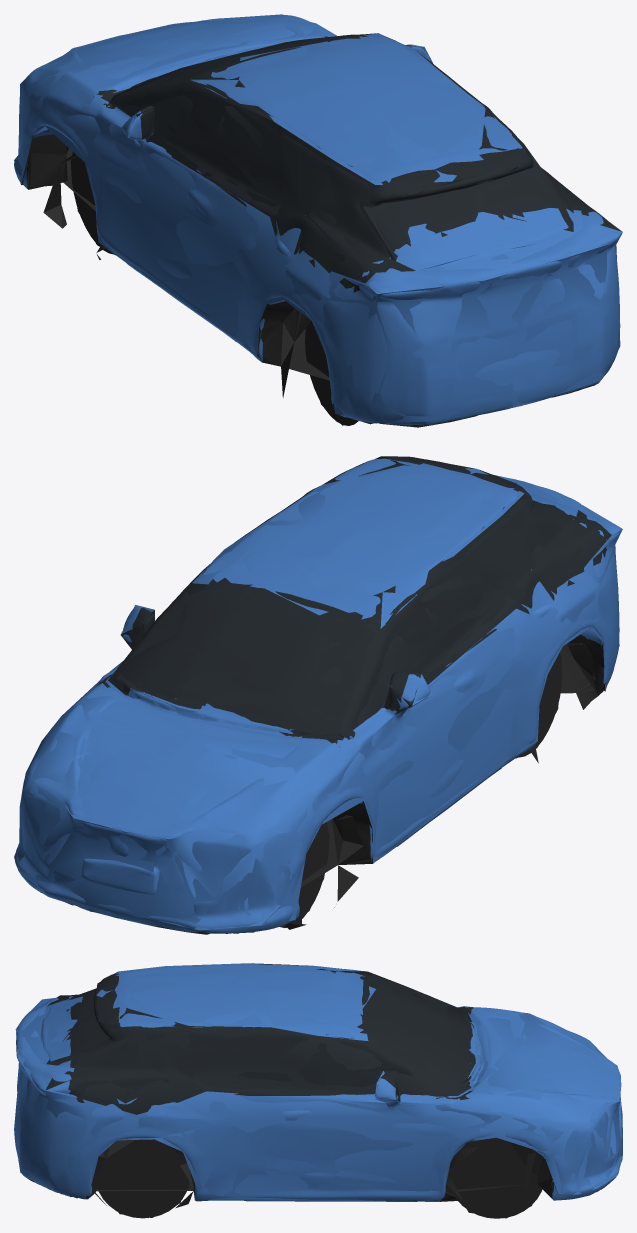
File: lexus-rz.glb
3 views of the same model, one above another, from view 1: azimuth 30°, elevation 25°; view 2: azimuth 150°, elevation 25°; view 3: azimuth 270°, elevation 25° (orthographic). The views are drawn at different scales.
Parts seen in each view (by area): view 1: body, far; view 2: body, far; view 3: body, far.
Boxes of the visible parts, <box> form: body: <box>14,15,620,427</box>; far: <box>14,14,622,425</box>; body: <box>14,456,619,934</box>; far: <box>14,456,622,930</box>; body: <box>14,964,622,1218</box>; far: <box>14,963,622,1218</box>.
Bounding box in the file's own units: 2.12 × 1.69 × 4.84.
